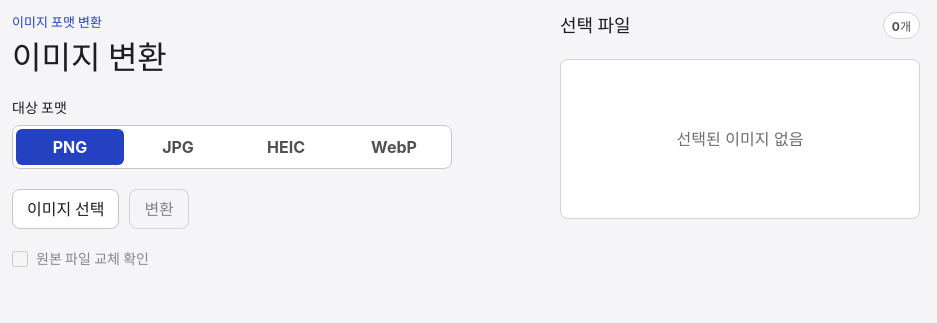
it: ImageFormatConverterTool › clears replacement confirmation when image selection is cancelled
The image size is (937, 323).
What coordinates should you click on to do the following:
click the button "이미지 선택"
I would click on:
 (66, 209)
Its box is [12,189,119,229].
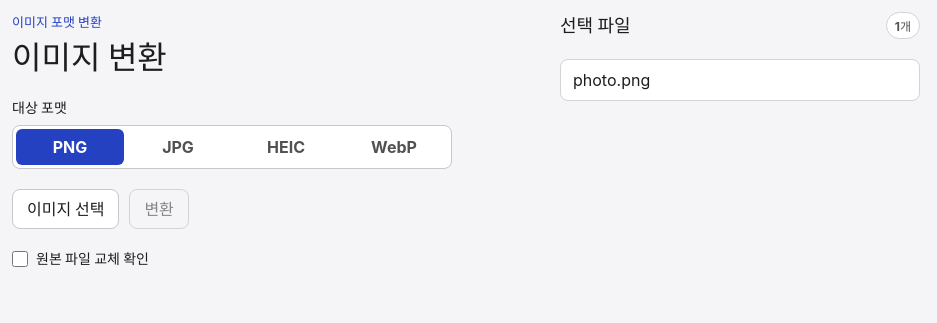
What coordinates should you click on to do the following:
click the checkbox labelled "원본 파일 교체 확인"
I would click on:
 (20, 259)
Its box is [12,251,28,267].
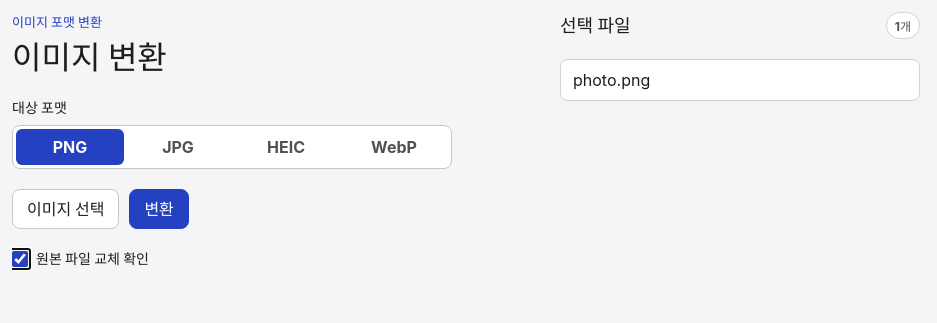
Now the button "변환" is enabled, box [129,189,189,229]
What coordinates should you click on to do the following:
click the button "이미지 선택"
I would click on:
 (66, 209)
Its box is [12,189,119,229].
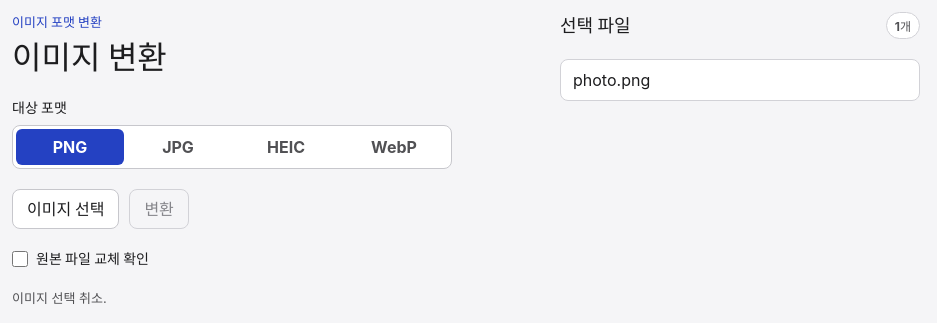
Now the checkbox labelled "원본 파일 교체 확인" is not checked, box [12,251,28,267]
Now the message reads "이미지 선택 취소.", box [12,290,107,306]
Now the button "변환" is disabled, box [129,189,189,229]
